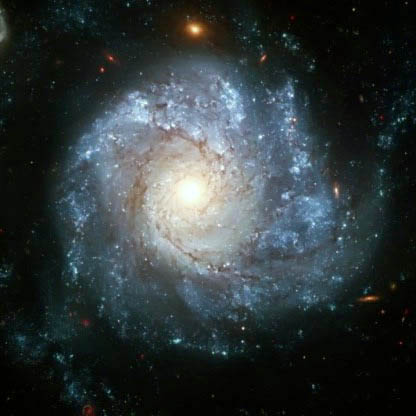NGC 1309: (57, 18, 376, 370)
